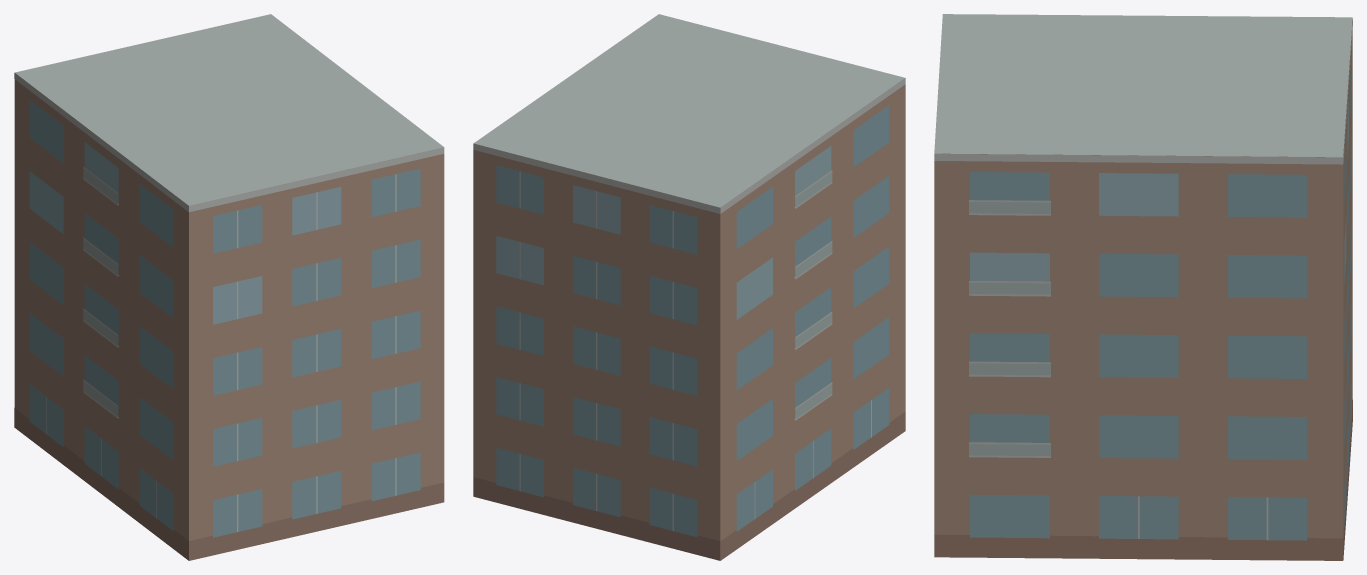
File: survey-upis-32978815.glb
3 views of the same model, side by side, from view 1: azimuth 30°, elevation 25°; view 2: azimuth 150°, elevation 25°; view 3: azimuth 270°, elevation 25° (orthographic). The views are drawn at different scales.
Visible parts, largest first — view 1: survey-upis-32978815.tmp; view 2: survey-upis-32978815.tmp; view 3: survey-upis-32978815.tmp.
Part boxes in pixels (box(x1,y1,x2,y2)): survey-upis-32978815.tmp: box(14, 14, 444, 560); survey-upis-32978815.tmp: box(473, 14, 905, 560); survey-upis-32978815.tmp: box(934, 14, 1352, 560).
Size of the model in its own units: 10.36 by 13.6 by 12.79.
